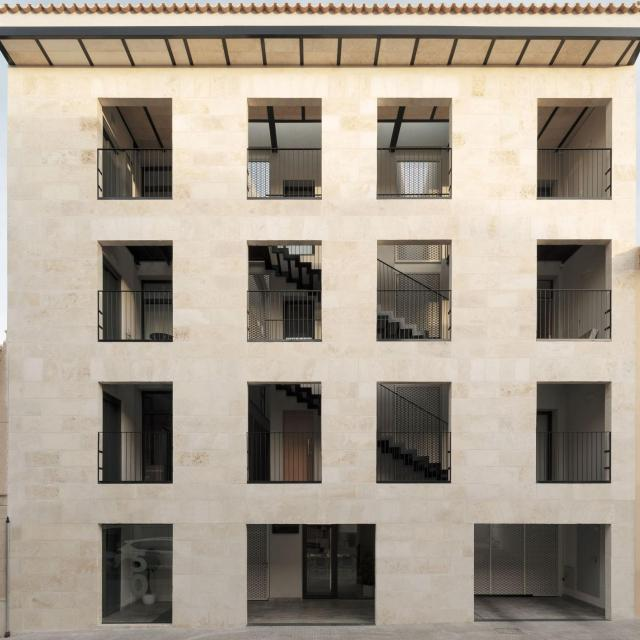door: (304, 525, 373, 596)
railing: (377, 430, 453, 482), (538, 147, 612, 199), (97, 149, 172, 200), (536, 289, 612, 339), (98, 434, 174, 482), (98, 292, 172, 341), (248, 433, 322, 482), (380, 292, 453, 340), (248, 151, 322, 198), (250, 291, 320, 340), (378, 150, 450, 197), (540, 433, 609, 482)
window: (101, 524, 172, 624)
